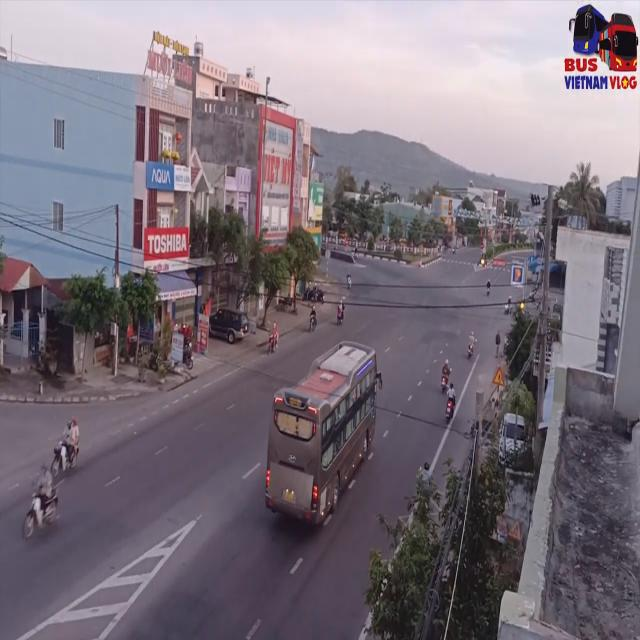bus: (259, 341, 381, 529)
motorbike: (22, 460, 57, 544), (52, 416, 80, 479), (444, 378, 458, 424), (268, 319, 280, 356), (468, 329, 480, 362), (441, 360, 451, 390), (308, 306, 317, 334)
